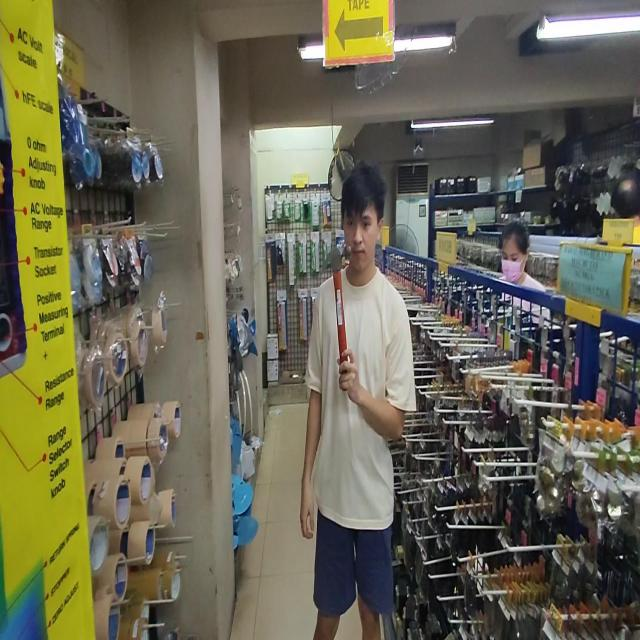hammer: (321, 246, 351, 391)
